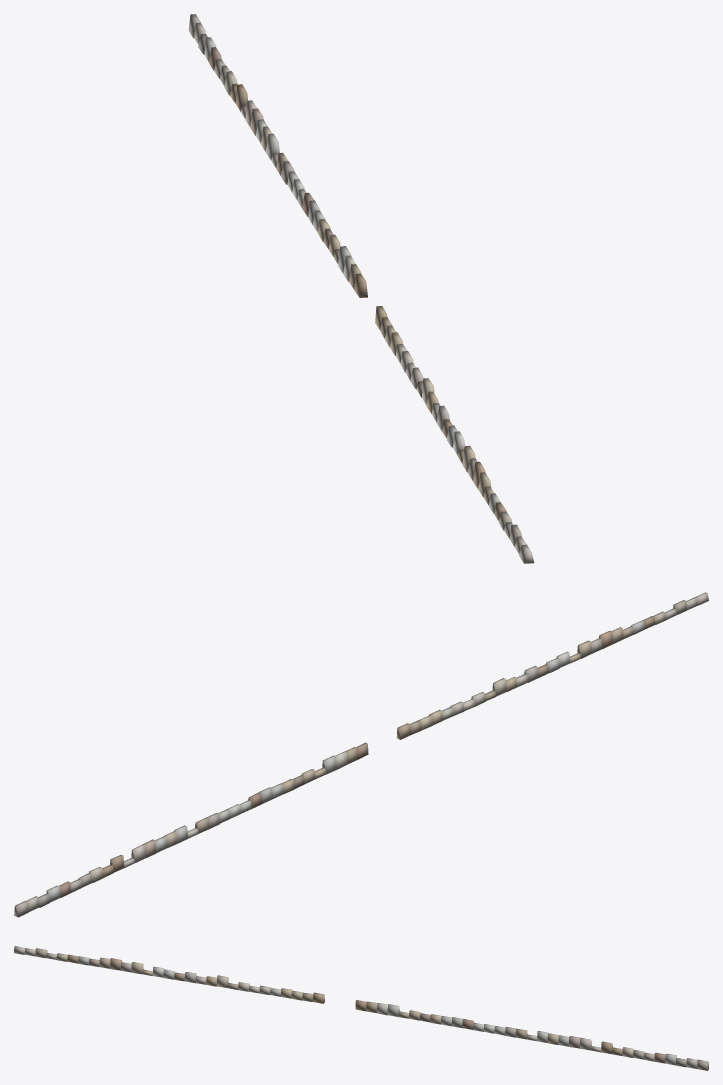
Rendered from farm_21_25_far.glb.
The picture shows the model from 3 angles, top to bottom: view 1: azimuth 30°, elevation 25°; view 2: azimuth 150°, elevation 25°; view 3: azimuth 270°, elevation 25°; orthographic projection. The views are drawn at different scales.
Visible parts, largest first — view 1: geometry_0; view 2: geometry_0; view 3: geometry_0.
Boxes of the visible parts, x1,y1,x2,y2 form: geometry_0: (188, 14, 534, 563); geometry_0: (14, 592, 708, 917); geometry_0: (14, 946, 708, 1070).
Bounding box in the file's own units: 29.87 × 5.77 × 98.32.
